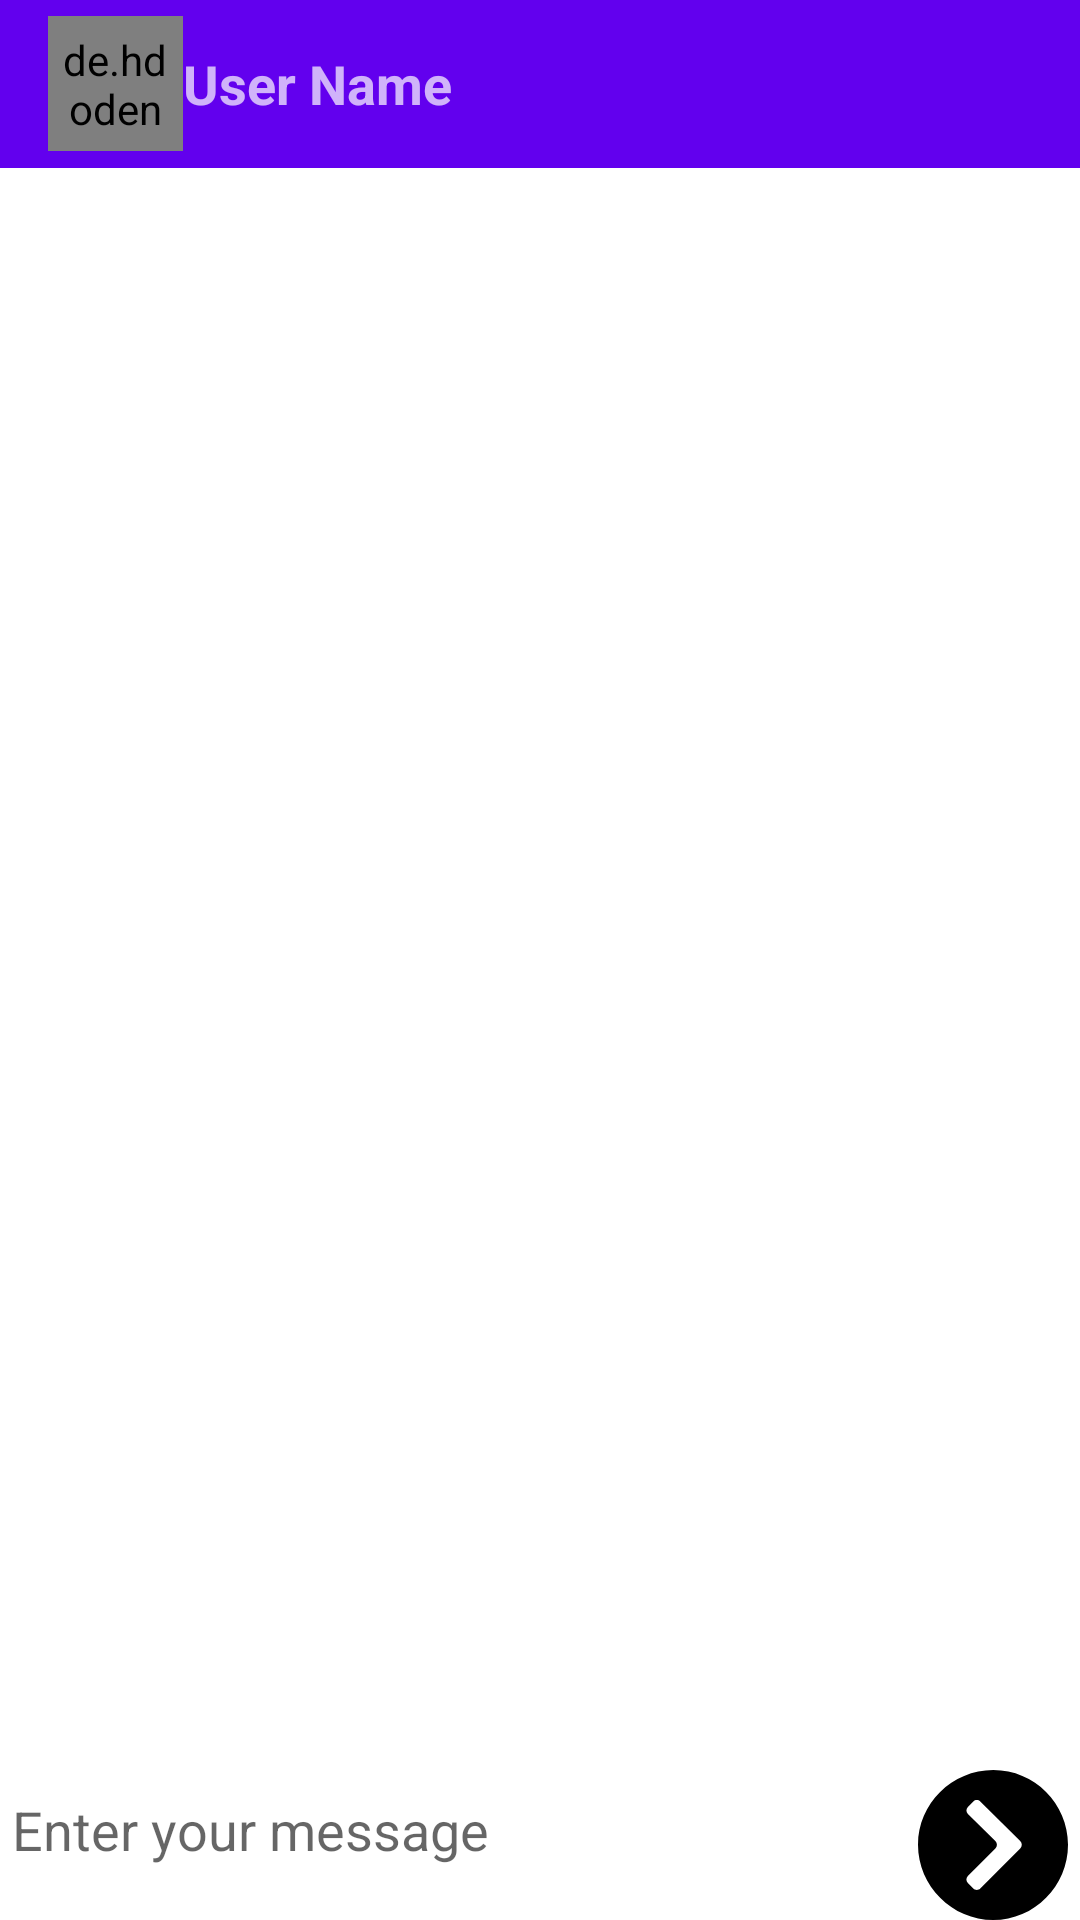

Named icons in this screenshot (1080x1920) and their bounding boxes, (x1, y1, x2, y2):
send: (918, 1770, 1068, 1920)
